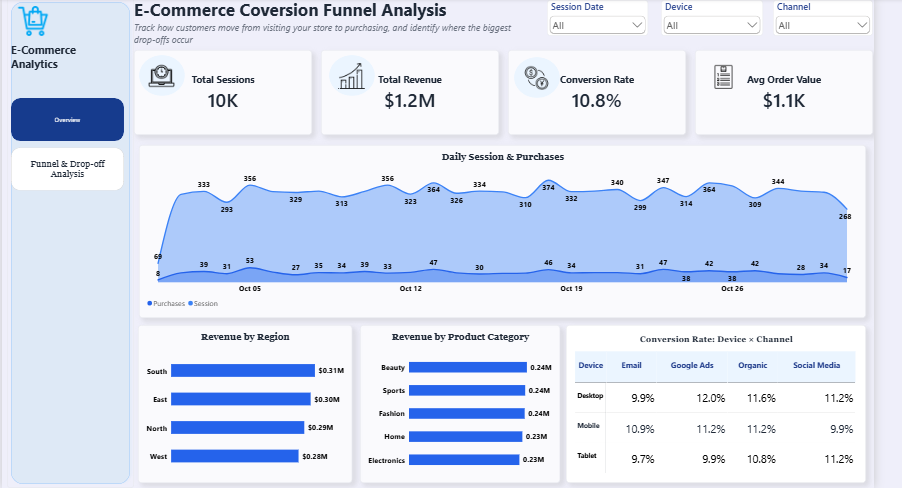

What the dashboard file says about the page in this screenshot:
{"tool":"powerbi","page":{"name":"Overview","canvas":[1920,1080],"ordinal":0},"visuals":[{"type":"shape","box":[11,0,279.9,1080],"z":0},{"type":"shape","box":[290.9,0,859.6,66.1],"z":1000},{"type":"shape","box":[290.9,50.7,859.6,63.9],"z":2000},{"type":"slicer","fields":{"Values":["Sessions.SessionDate"]},"box":[1201.2,4.4,222.6,79.3],"z":3000},{"type":"slicer","fields":{"Values":["Sessions.Device"]},"box":[1452.5,4.4,224.8,79.3],"z":4000},{"type":"slicer","fields":{"Values":["Sessions.Channel"]},"box":[1699.3,4.4,220.4,79.3],"z":5000},{"type":"image","box":[19.8,17.6,97,66.1],"z":18000},{"type":"pageNavigator","box":[19.8,220.4,249.1,205],"z":19000},{"type":"shape","box":[19.8,97,198.4,79.3],"z":20000},{"type":"areaChart","title":"Daily Session & Purchases","fields":{"Category":["Sessions.SessionDate.Variation.Date Hierarchy.Year","Sessions.SessionDate.Variation.Date Hierarchy.Quarter","Sessions.SessionDate.Variation.Date Hierarchy.Month","Sessions.SessionDate.Variation.Date Hierarchy.Day"],"Y":["Sessions.Purchases","Sessions.Session"]},"box":[302,324,1602.4,381.3],"z":21000},{"type":"clusteredBarChart","title":"Revenue by Region","fields":{"Category":["Sessions.Region"],"Y":["Sessions.Total Revenue"]},"box":[299.8,720.7,471.7,348.2],"z":22000},{"type":"clusteredBarChart","title":"Revenue by Product Category","fields":{"Category":["Sessions.Product_Category"],"Y":["Sum(Sessions.Revenue)"]},"box":[789.1,720.7,440.8,348.2],"z":23000},{"type":"pivotTable","title":"Conversion Rate: Device × Channel","fields":{"Columns":["Sessions.Channel"],"Rows":["Sessions.Device"],"Values":["Sessions.Conversion Rate"]},"box":[1243.1,720.7,661.2,348.2],"z":23001},{"type":"cardVisual","title":"Total Sessions","fields":{"Data":["Total Revenue.TotalSessions"]},"box":[290.9,114.6,392.3,187.3],"z":23002},{"type":"shape","box":[302,125.6,101.4,90.4],"z":23003},{"type":"image","box":[308.6,143.3,86,57.3],"z":23004},{"type":"cardVisual","title":"Total Sessions","fields":{"Data":["Sessions.Total Revenue"]},"box":[703.1,114.6,392.3,187.3],"z":23005},{"type":"shape","box":[719.7,124.6,101.4,90.4],"z":23006},{"type":"image","box":[726.3,142.2,86,57.3],"z":23007},{"type":"cardVisual","title":"Total Sessions","fields":{"Data":["Sessions.Overall Conversion Rate"]},"box":[1115.3,114.6,392.3,187.3],"z":23008},{"type":"cardVisual","title":"Total Sessions","fields":{"Data":["Sessions.Avg Order Value"]},"box":[1527.4,114.6,392.3,187.3],"z":23009},{"type":"shape","box":[1128.7,130.2,101.4,90.4],"z":23010},{"type":"image","box":[1135.3,147.8,86,57.3],"z":23011},{"type":"image","box":[1546.4,144.6,86,57.3],"z":23012}]}

Visuals, with their boxes on the page's 1920x1080 design canvas (x1, y1, x2, y2). These are canvas units, not pixel positions in the 902x488 screenshot, which may show the page scaled, cropped or inside an application window:
shape: x1=11 y1=0 x2=291 y2=1080
shape: x1=291 y1=0 x2=1150 y2=66
shape: x1=291 y1=51 x2=1150 y2=115
slicer - Sessions.SessionDate: x1=1201 y1=4 x2=1424 y2=84
slicer - Sessions.Device: x1=1452 y1=4 x2=1677 y2=84
slicer - Sessions.Channel: x1=1699 y1=4 x2=1920 y2=84
image: x1=20 y1=18 x2=117 y2=84
pageNavigator: x1=20 y1=220 x2=269 y2=425
shape: x1=20 y1=97 x2=218 y2=176
"Daily Session & Purchases" areaChart: x1=302 y1=324 x2=1904 y2=705
"Revenue by Region" clusteredBarChart: x1=300 y1=721 x2=772 y2=1069
"Revenue by Product Category" clusteredBarChart: x1=789 y1=721 x2=1230 y2=1069
"Conversion Rate: Device × Channel" pivotTable: x1=1243 y1=721 x2=1904 y2=1069
"Total Sessions" cardVisual: x1=291 y1=115 x2=683 y2=302
shape: x1=302 y1=126 x2=403 y2=216
image: x1=309 y1=143 x2=395 y2=201
"Total Sessions" cardVisual: x1=703 y1=115 x2=1095 y2=302
shape: x1=720 y1=125 x2=821 y2=215
image: x1=726 y1=142 x2=812 y2=200
"Total Sessions" cardVisual: x1=1115 y1=115 x2=1508 y2=302
"Total Sessions" cardVisual: x1=1527 y1=115 x2=1920 y2=302
shape: x1=1129 y1=130 x2=1230 y2=221
image: x1=1135 y1=148 x2=1221 y2=205
image: x1=1546 y1=145 x2=1632 y2=202
